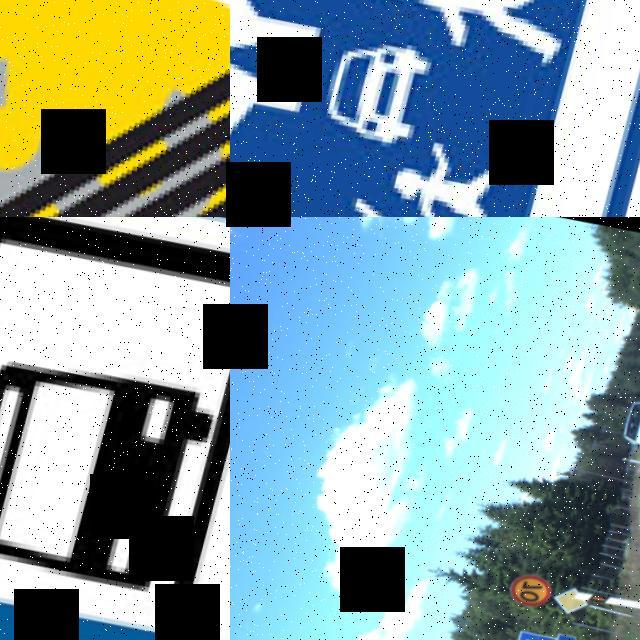124: (0, 0, 230, 217)
181: (552, 581, 598, 621), (510, 619, 565, 640), (546, 628, 590, 640)
52: (230, 0, 640, 217)
55: (506, 569, 564, 615)
Bus stop: (0, 217, 230, 640)
